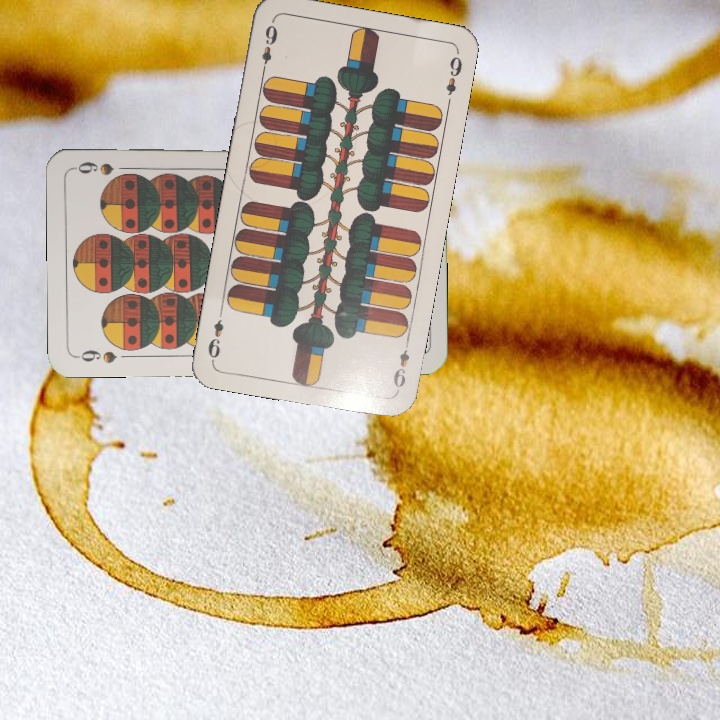E9: (257, 20, 280, 76), (389, 336, 412, 391)
S9: (72, 346, 119, 366)
